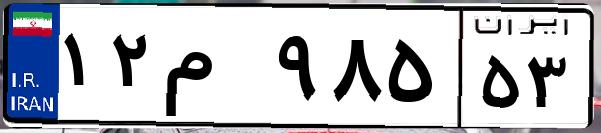1: (57, 26, 110, 100)
2: (110, 28, 158, 98)
3: (525, 38, 570, 115)
5: (385, 28, 445, 110), (475, 38, 525, 113)
8: (330, 28, 385, 110)
9: (270, 28, 330, 110)
م: (158, 20, 270, 120)
